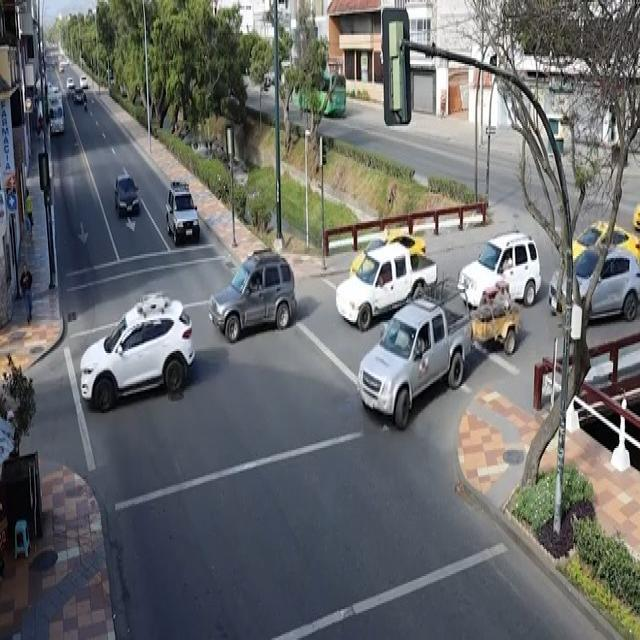CMT: (354, 311, 480, 423), (338, 248, 439, 323)
